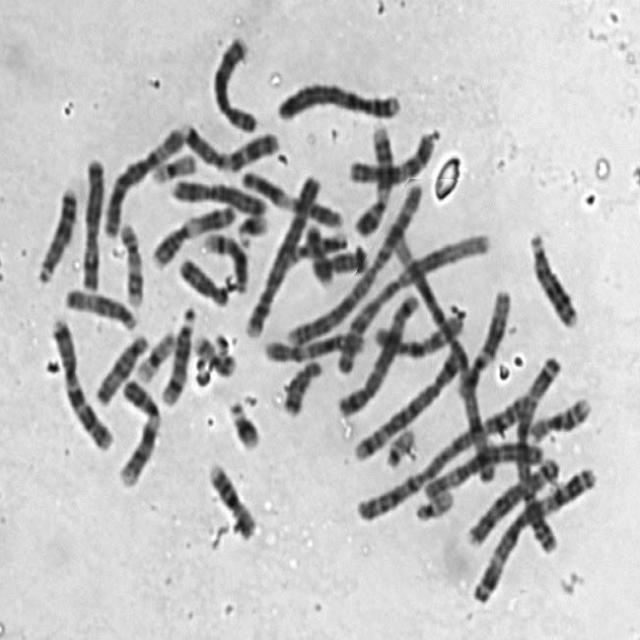A1: (330, 225, 495, 382), (378, 223, 482, 379)
A2: (278, 173, 427, 351), (350, 384, 536, 525)
A3: (468, 456, 602, 606), (507, 347, 563, 559)
B4: (238, 164, 326, 338), (272, 71, 404, 123)
B5: (347, 342, 467, 465), (331, 282, 423, 418)
C10: (343, 122, 442, 186), (366, 303, 468, 360)
C11: (236, 160, 347, 230), (144, 193, 240, 270)
C12: (452, 278, 514, 397), (257, 323, 366, 365)
C6: (98, 117, 188, 239), (418, 433, 548, 501)
C7: (42, 308, 116, 452), (178, 114, 282, 173)
C8: (461, 446, 561, 550), (205, 25, 260, 134)
C9: (111, 370, 164, 490), (348, 114, 399, 238)
D13: (522, 220, 582, 330), (29, 177, 80, 286)
D14: (155, 297, 198, 407), (197, 223, 251, 294)
D15: (89, 324, 152, 407), (58, 277, 141, 333)
E16: (202, 452, 258, 541), (526, 386, 596, 443)
E17: (113, 213, 146, 308), (284, 223, 350, 264)
E18: (172, 247, 232, 308), (276, 349, 326, 418)
F19: (129, 322, 178, 383), (145, 143, 198, 185)
F20: (187, 326, 239, 378), (299, 214, 335, 288)
G21: (222, 389, 264, 454), (232, 204, 272, 247)
G22: (379, 417, 419, 470), (407, 481, 456, 522)
X: (165, 169, 270, 218), (75, 148, 107, 292)
